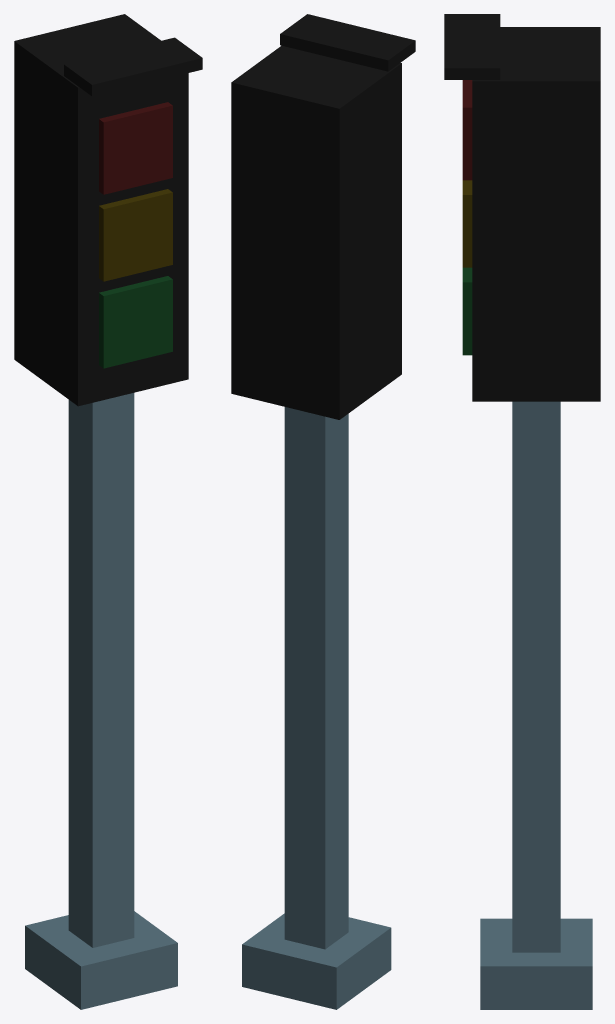
Rendered from trafficlight.glb.
3 renders of one model, left to right at view 1: azimuth 30°, elevation 25°; view 2: azimuth 150°, elevation 25°; view 3: azimuth 270°, elevation 25°, orthographic. The views are drawn at different scales.
Parts seen in each view (by area): view 1: Head, Pole, Base, LampRed, LampGreen, LampYellow, Visor; view 2: Head, Pole, Base, Visor; view 3: Head, Pole, Base, Visor, LampRed, LampGreen, LampYellow.
Boxes of the visible parts, x1,y1,x2,y2 form: Head: (14,14,188,406); Pole: (68,393,134,947); Base: (25,911,177,1009); LampRed: (99,102,172,194); LampGreen: (99,276,172,368); LampYellow: (99,189,172,281); Visor: (64,37,202,96); Head: (231,45,401,419); Pole: (284,407,348,949); Base: (242,913,391,1009); Visor: (280,14,415,71); Head: (472,27,600,401); Pole: (512,401,560,952); Base: (480,918,592,1009); Visor: (444,14,500,79); LampRed: (462,80,472,180); LampGreen: (462,267,472,355); LampYellow: (462,180,472,267).
Bounding box in the file's own units: 0.8 × 6.49 × 0.975.
